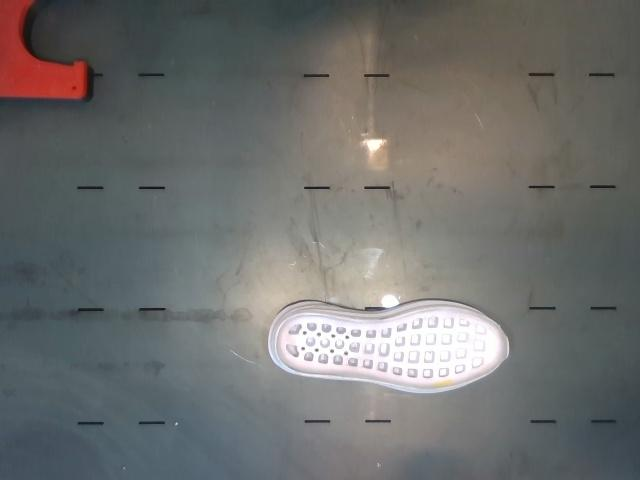shoes: (276, 308, 508, 389)
